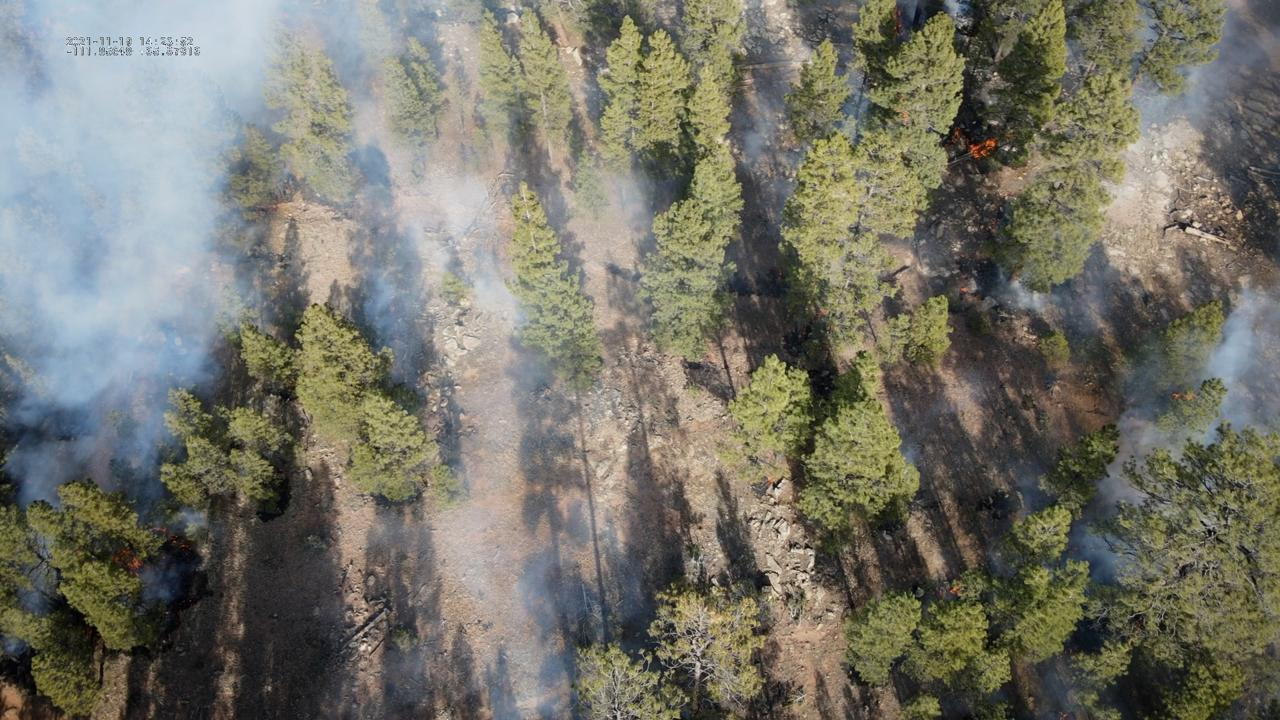fire: (112, 541, 145, 577), (1045, 695, 1084, 720), (967, 136, 1001, 159), (167, 533, 195, 553), (1143, 375, 1174, 386), (893, 6, 902, 34), (900, 109, 911, 126), (815, 307, 829, 319), (951, 127, 961, 143), (155, 525, 169, 535), (947, 584, 960, 594), (765, 476, 777, 486), (934, 276, 945, 284)
smoke: (0, 0, 664, 720), (984, 274, 1280, 720), (1089, 0, 1280, 150), (734, 83, 812, 240), (826, 41, 870, 153), (901, 0, 975, 42), (952, 263, 1024, 300), (1059, 35, 1087, 78), (893, 442, 922, 468)
